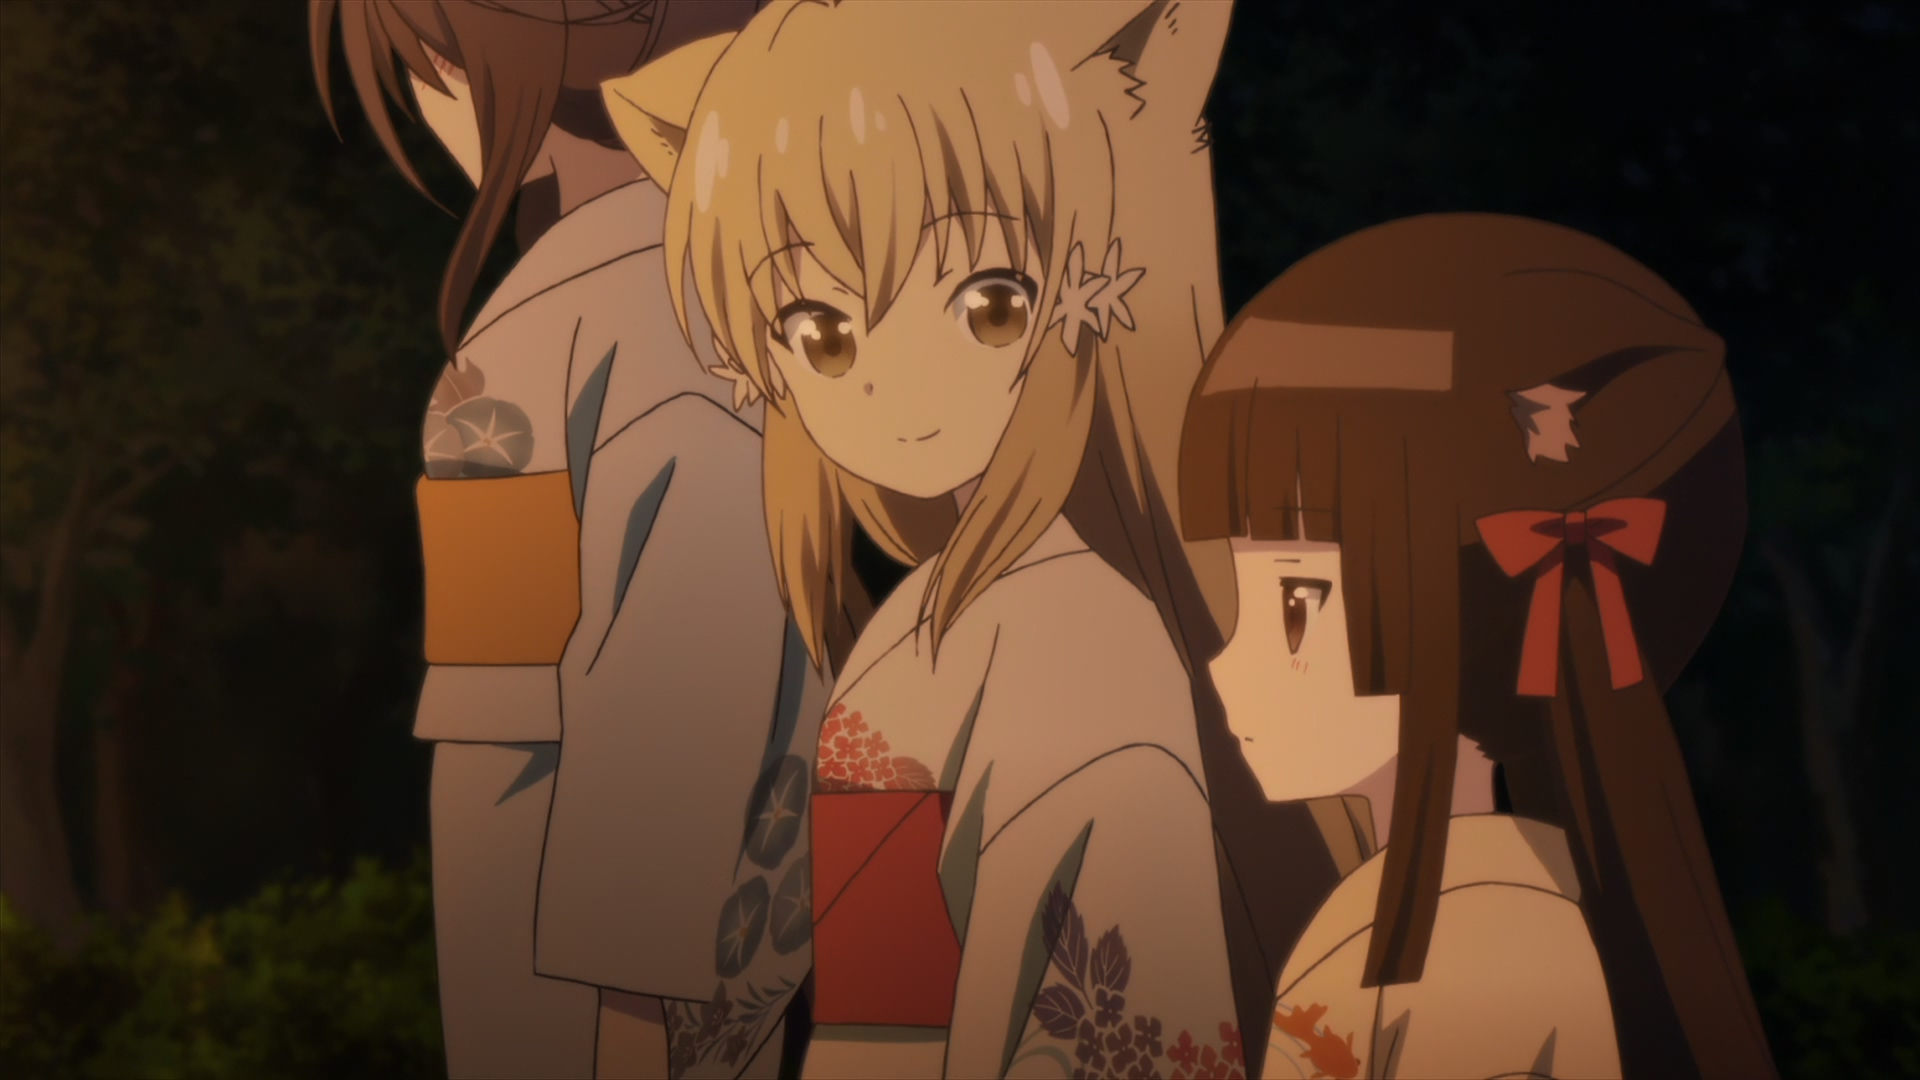柚: (601, 1, 1373, 1080)
樱: (1174, 208, 1767, 1079)
皋: (309, 1, 873, 1080)
